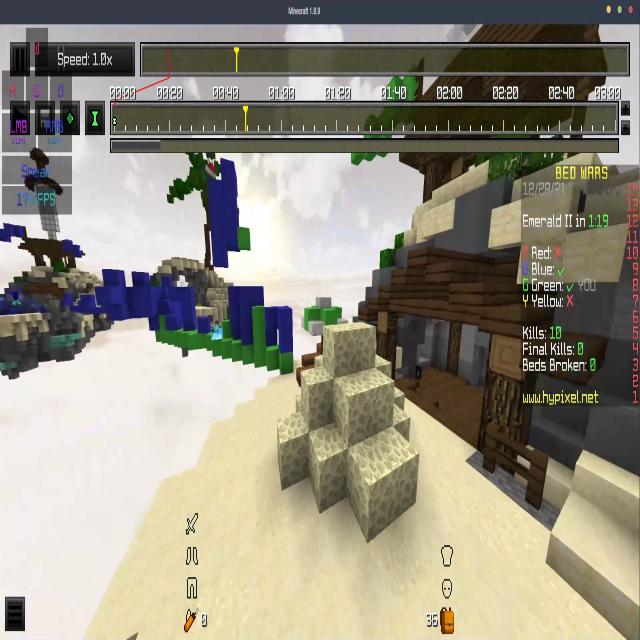Player: (9, 284, 22, 313)
